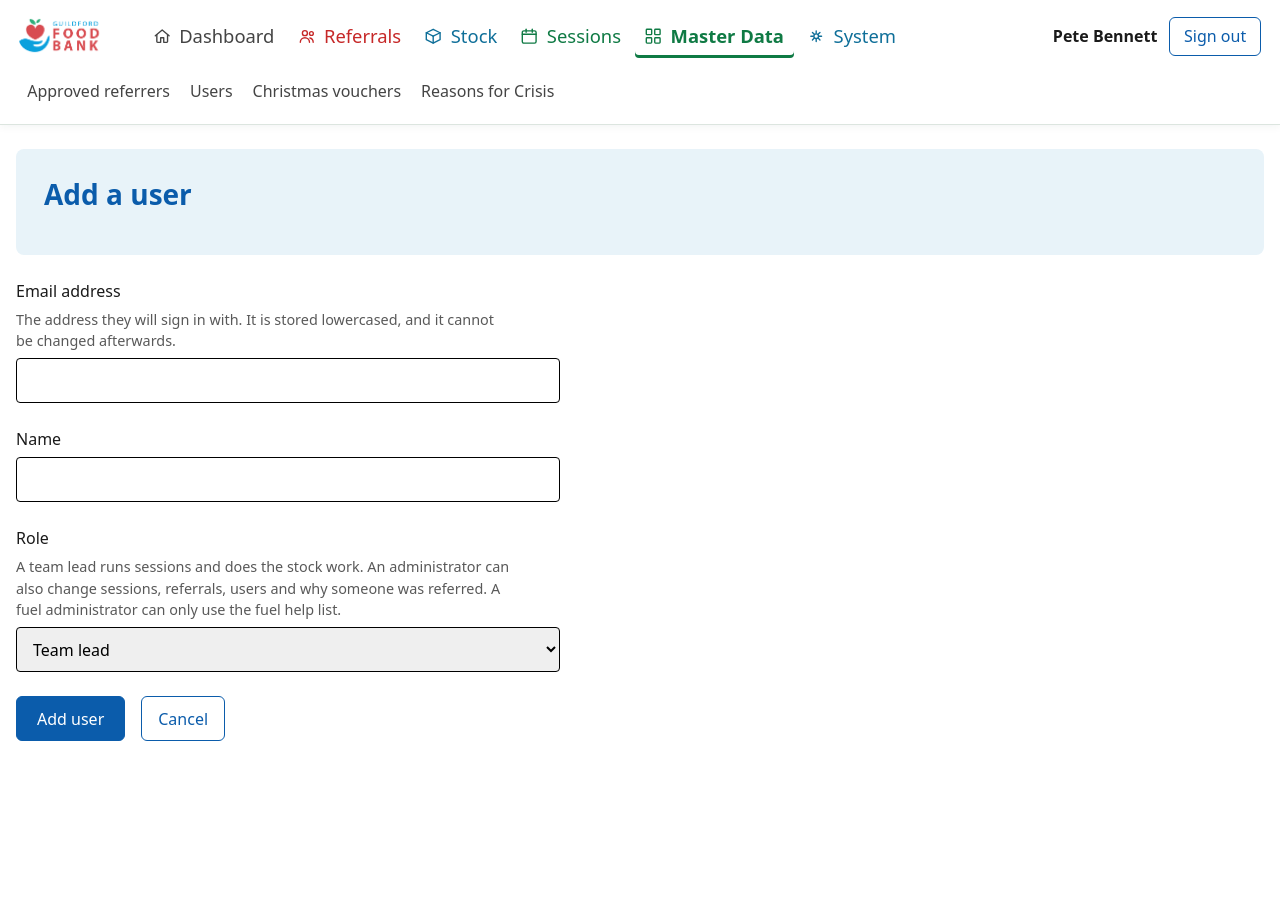
Test: adding a user › shows a conflict from the server verbatim
Type "new@x.com" into the field labelled "Email address" at (288, 380), box x1=16 y1=358 x2=560 y2=403
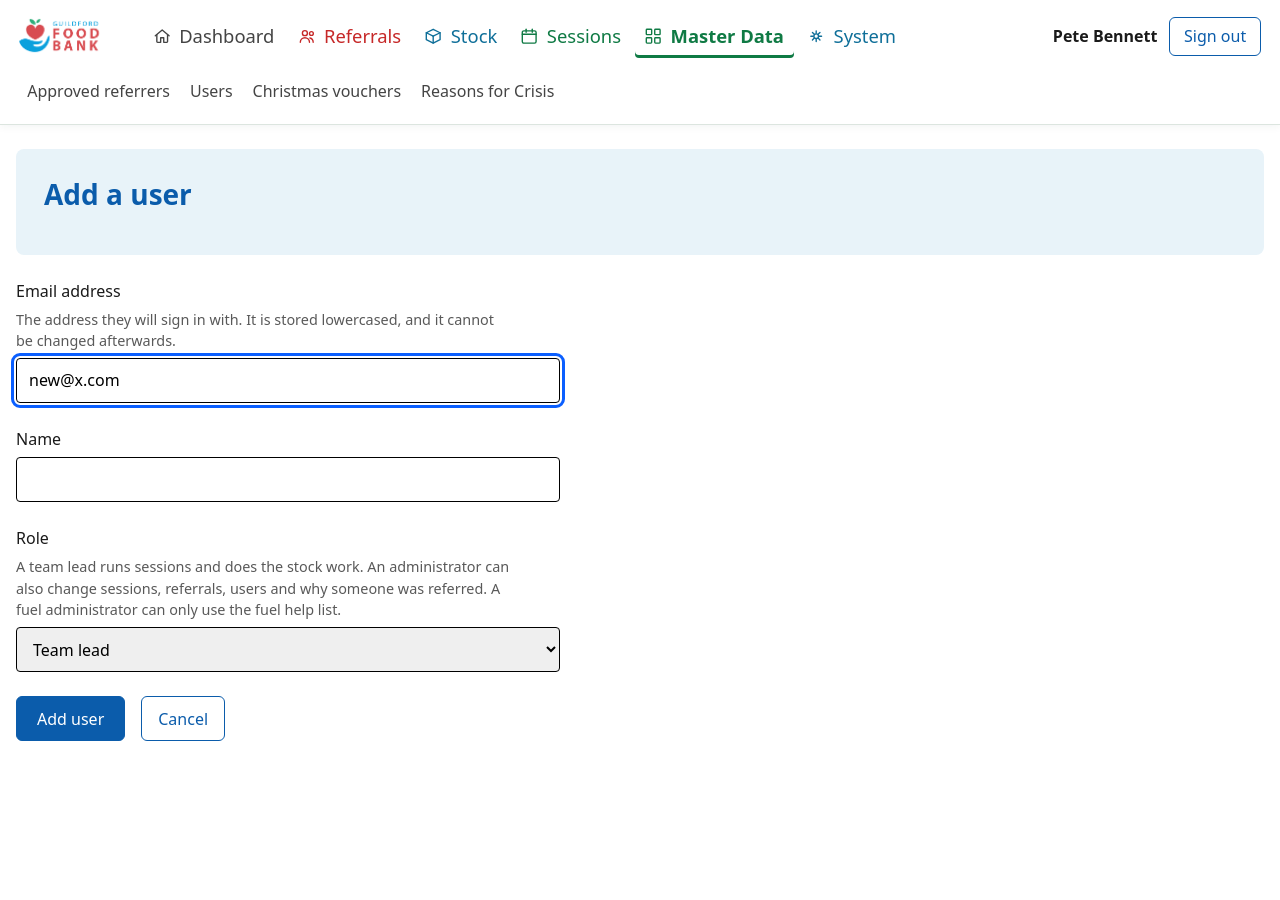
Type "New Person" into the field labelled "Name" at (288, 480), box x1=16 y1=457 x2=560 y2=502
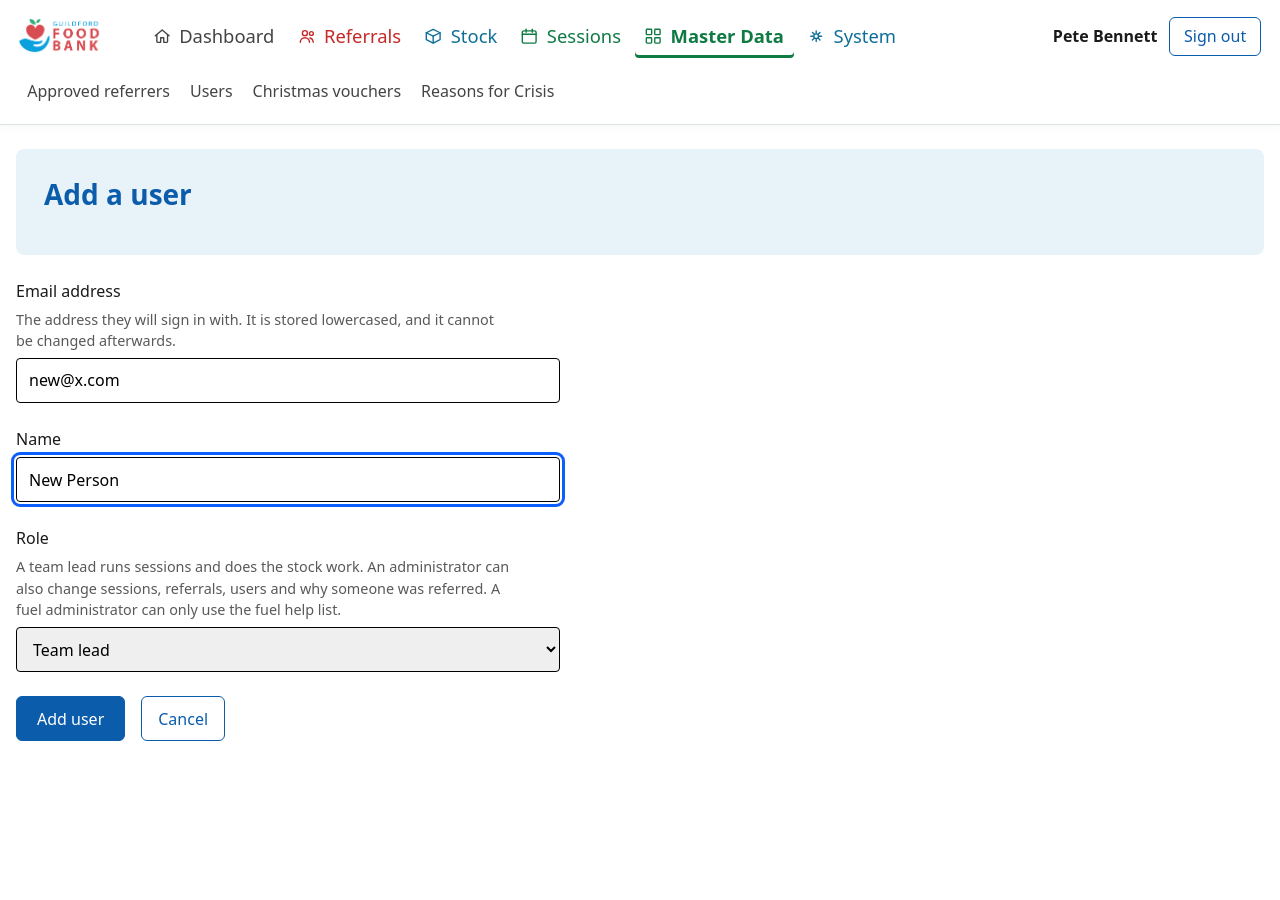
Click the button "Add user" at (71, 719), box x1=16 y1=696 x2=125 y2=741
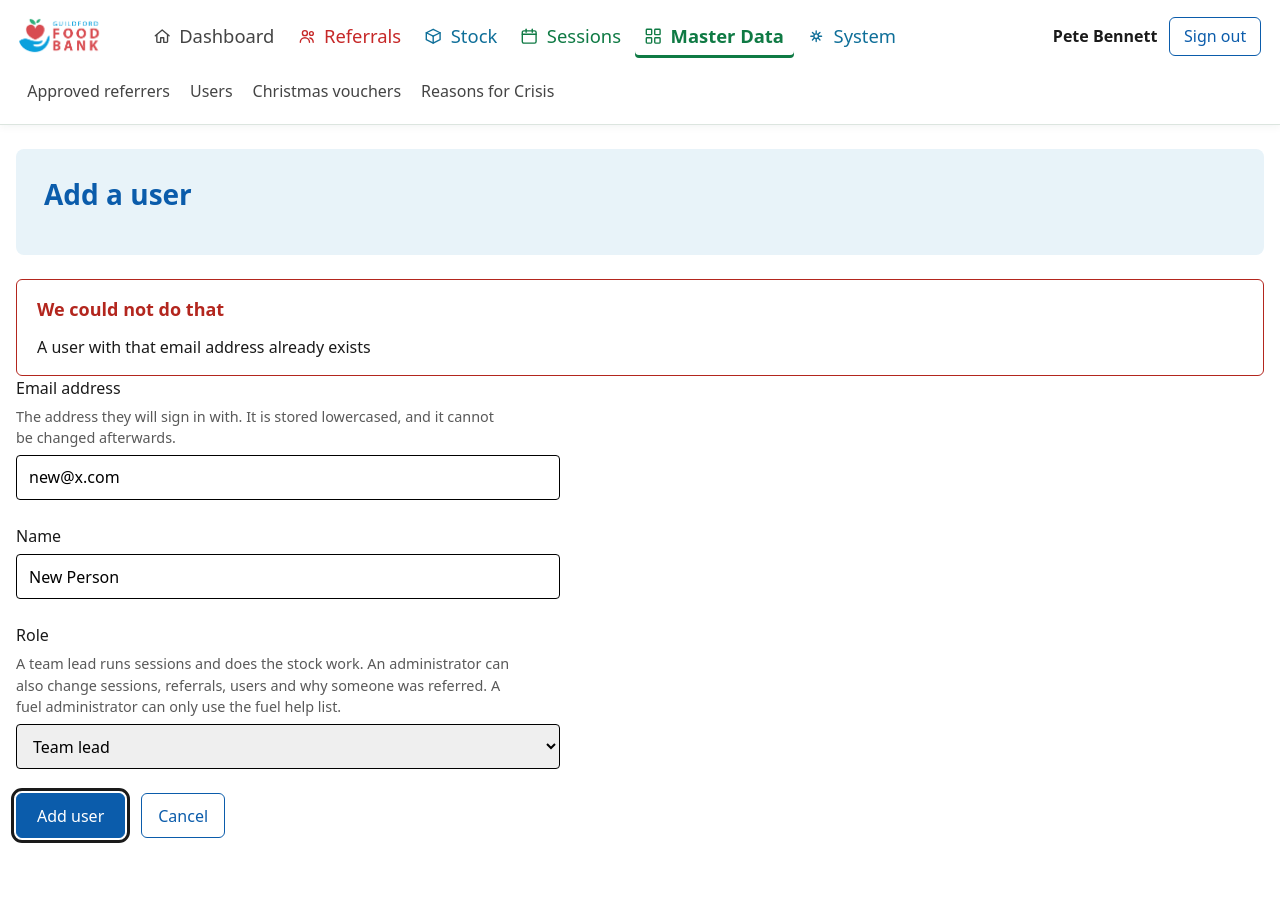
Now the message shows "A user with that email address already exists", box x1=37 y1=336 x2=371 y2=358
